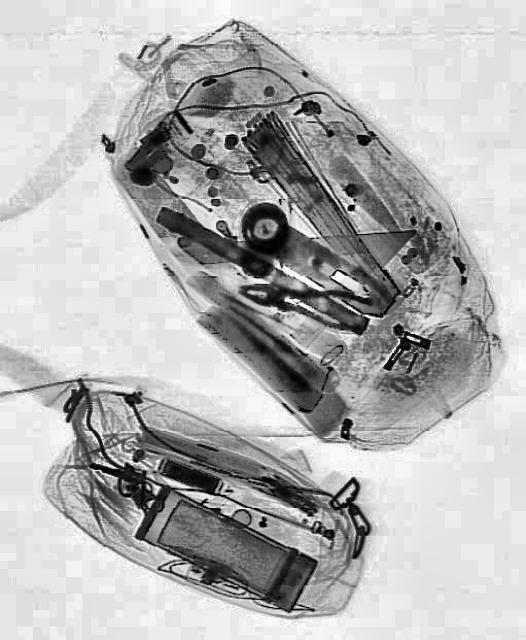Pliers: (236, 267, 374, 335)
